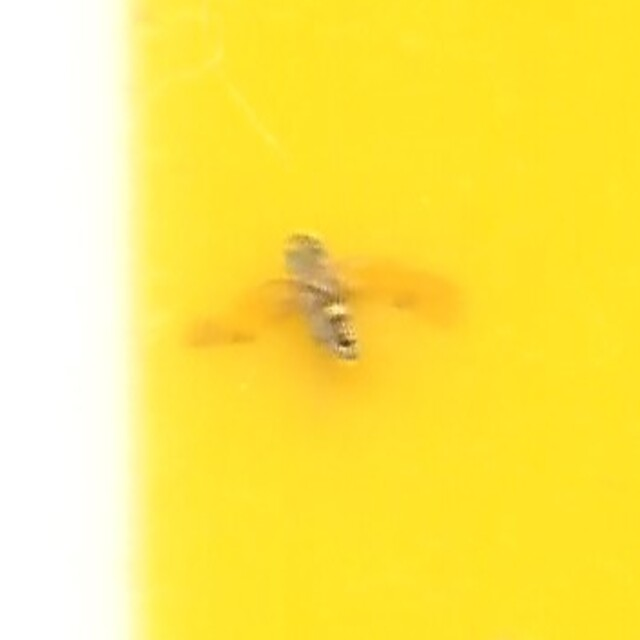Hemiptera: (181, 236, 459, 404)
